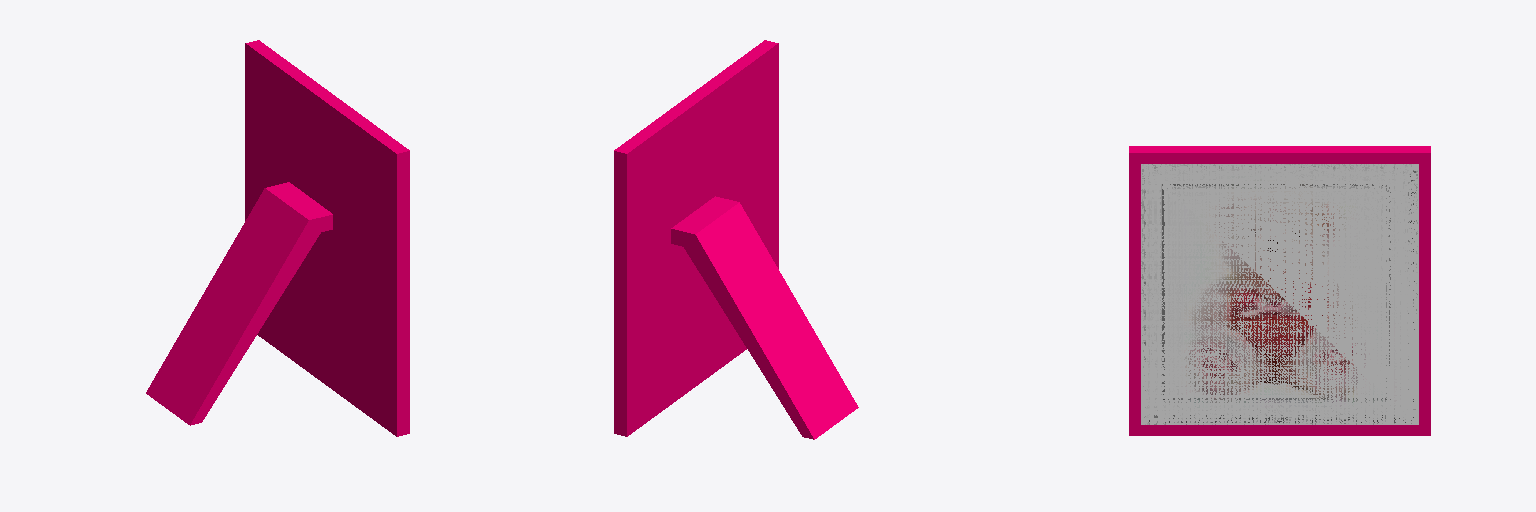
The picture shows the model from 3 angles: view 1: azimuth 30°, elevation 25°; view 2: azimuth 150°, elevation 25°; view 3: azimuth 270°, elevation 25°; orthographic projection.
Visible parts, largest first — view 1: Mesh2_Model; view 2: Mesh2_Model; view 3: Mesh2_Model.
Part boxes in pixels (x1,y1,x2,y2): Mesh2_Model: (146,40,409,436); Mesh2_Model: (614,40,858,439); Mesh2_Model: (1129,146,1430,435).
Bounding box in the file's own units: 0.5784 × 0.9956 × 0.9645.
3 materials, 1 textured.